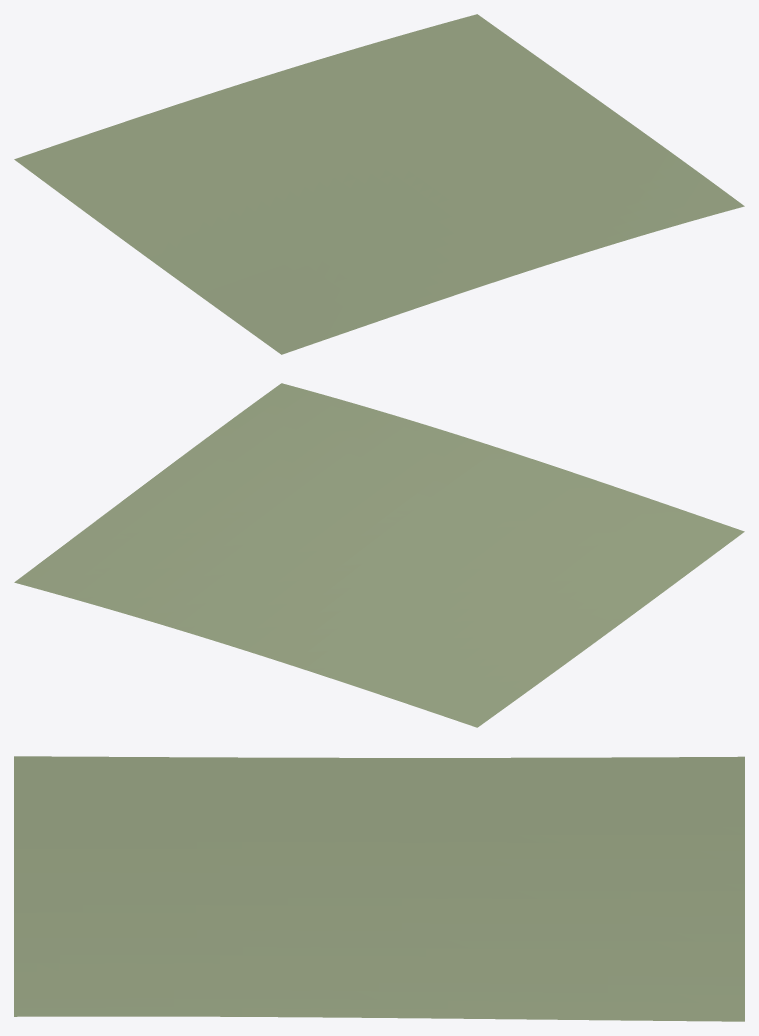
Rendered from expanse-21-14.glb.
The picture shows the model from 3 angles, top to bottom: view 1: azimuth 30°, elevation 25°; view 2: azimuth 150°, elevation 25°; view 3: azimuth 270°, elevation 25°; orthographic projection. The views are drawn at different scales.
Visible parts, largest first — view 1: expanse-21-14; view 2: expanse-21-14; view 3: expanse-21-14.
Part boxes in pixels (box(x1,y1,x2,y2)): expanse-21-14: box(14, 14, 744, 354); expanse-21-14: box(14, 383, 744, 727); expanse-21-14: box(14, 756, 744, 1021).
Size of the model in its own units: 256 by 19.43 by 256.
